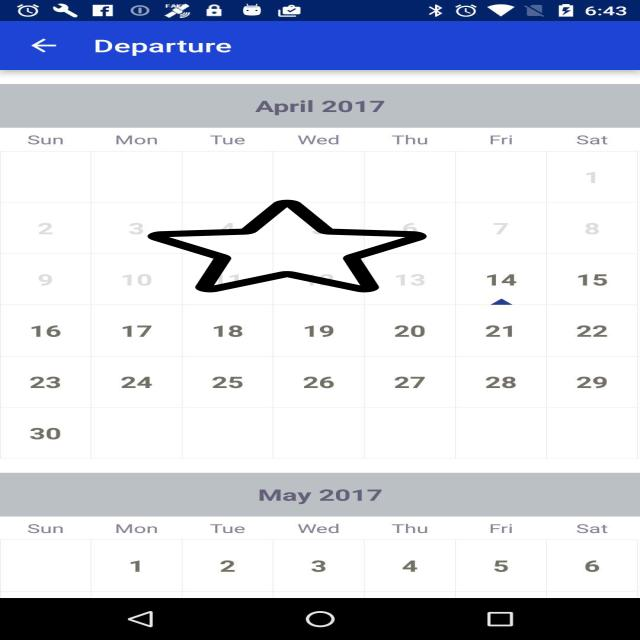forced continuity: (148, 198, 426, 294)
